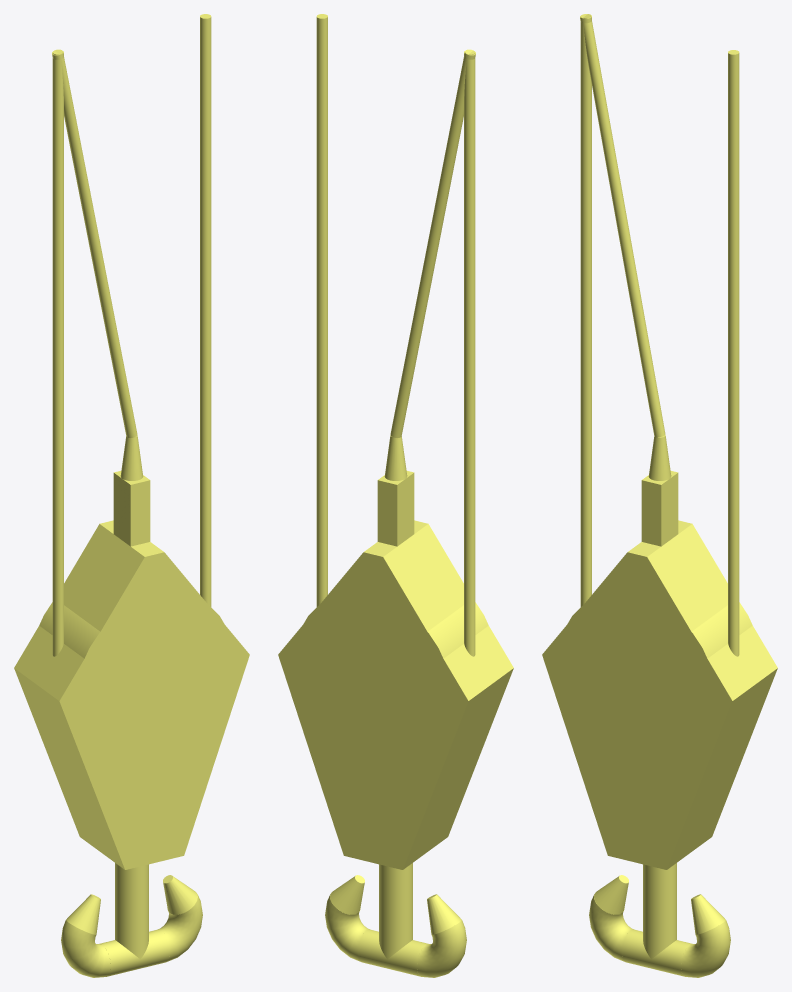
File: Image-1711348149269-2280988680880_73-MA50-CRANE-MAIN-BLOCK.fbx
3 views of the same model, side by side, from view 1: azimuth 30°, elevation 25°; view 2: azimuth 150°, elevation 25°; view 3: azimuth 330°, elevation 25° (orthographic).
Visible parts, largest first — view 1: CYLINDER 1 of STRUCTURE /73-MA50-CRANE-MAIN-BLOCK, PYRAMID 2 of STRUCTURE /73-MA50-CRANE-MAIN-BLOCK, PYRAMID 1 of STRUCTURE /73-MA50-CRANE-MAIN-BLOCK, CYLINDER 4 of STRUCTURE /73-MA50-CRANE-MAIN-BLOCK, CYLINDER 5 of STRUCTURE /73-MA50-CRANE-MAIN-BLOCK, CYLINDER 6 of STRUCTURE /73-MA50-CRANE-MAIN-BLOCK, CYLINDER 2 of STRUCTURE /73-MA50-CRANE-MAIN-BLOCK, BOX 1 of STRUCTURE /73-MA50-CRANE-MAIN-BLOCK, CTORUS 1 of STRUCTURE /73-MA50-CRANE-MAIN-BLOCK, CYLINDER 3 of STRUCTURE /73-MA50-CRANE-MAIN-BLOCK, CTORUS 2 of STRUCTURE /73-MA50-CRANE-MAIN-BLOCK, CONE 2 of STRUCTURE /73-MA50-CRANE-MAIN-BLOCK (+2 smaller); view 2: PYRAMID 2 of STRUCTURE /73-MA50-CRANE-MAIN-BLOCK, PYRAMID 1 of STRUCTURE /73-MA50-CRANE-MAIN-BLOCK, CYLINDER 1 of STRUCTURE /73-MA50-CRANE-MAIN-BLOCK, CYLINDER 4 of STRUCTURE /73-MA50-CRANE-MAIN-BLOCK, CYLINDER 5 of STRUCTURE /73-MA50-CRANE-MAIN-BLOCK, CYLINDER 6 of STRUCTURE /73-MA50-CRANE-MAIN-BLOCK, CYLINDER 2 of STRUCTURE /73-MA50-CRANE-MAIN-BLOCK, BOX 1 of STRUCTURE /73-MA50-CRANE-MAIN-BLOCK, CTORUS 1 of STRUCTURE /73-MA50-CRANE-MAIN-BLOCK, CYLINDER 3 of STRUCTURE /73-MA50-CRANE-MAIN-BLOCK, CTORUS 2 of STRUCTURE /73-MA50-CRANE-MAIN-BLOCK, CONE 2 of STRUCTURE /73-MA50-CRANE-MAIN-BLOCK (+2 smaller); view 3: PYRAMID 2 of STRUCTURE /73-MA50-CRANE-MAIN-BLOCK, PYRAMID 1 of STRUCTURE /73-MA50-CRANE-MAIN-BLOCK, CYLINDER 5 of STRUCTURE /73-MA50-CRANE-MAIN-BLOCK, CYLINDER 4 of STRUCTURE /73-MA50-CRANE-MAIN-BLOCK, CYLINDER 1 of STRUCTURE /73-MA50-CRANE-MAIN-BLOCK, CYLINDER 6 of STRUCTURE /73-MA50-CRANE-MAIN-BLOCK, CYLINDER 2 of STRUCTURE /73-MA50-CRANE-MAIN-BLOCK, BOX 1 of STRUCTURE /73-MA50-CRANE-MAIN-BLOCK, CTORUS 2 of STRUCTURE /73-MA50-CRANE-MAIN-BLOCK, CYLINDER 3 of STRUCTURE /73-MA50-CRANE-MAIN-BLOCK, CTORUS 1 of STRUCTURE /73-MA50-CRANE-MAIN-BLOCK, CONE 3 of STRUCTURE /73-MA50-CRANE-MAIN-BLOCK (+2 smaller).
Part boxes in pixels (x1,y1,x2,y2): CYLINDER 1 of STRUCTURE /73-MA50-CRANE-MAIN-BLOCK: [39, 593, 233, 762]; PYRAMID 2 of STRUCTURE /73-MA50-CRANE-MAIN-BLOCK: [14, 655, 249, 869]; PYRAMID 1 of STRUCTURE /73-MA50-CRANE-MAIN-BLOCK: [14, 520, 249, 700]; CYLINDER 4 of STRUCTURE /73-MA50-CRANE-MAIN-BLOCK: [52, 50, 63, 656]; CYLINDER 5 of STRUCTURE /73-MA50-CRANE-MAIN-BLOCK: [200, 14, 211, 606]; CYLINDER 6 of STRUCTURE /73-MA50-CRANE-MAIN-BLOCK: [52, 49, 137, 437]; CYLINDER 2 of STRUCTURE /73-MA50-CRANE-MAIN-BLOCK: [115, 863, 148, 959]; BOX 1 of STRUCTURE /73-MA50-CRANE-MAIN-BLOCK: [113, 471, 150, 546]; CTORUS 1 of STRUCTURE /73-MA50-CRANE-MAIN-BLOCK: [61, 920, 110, 977]; CYLINDER 3 of STRUCTURE /73-MA50-CRANE-MAIN-BLOCK: [99, 929, 169, 976]; CTORUS 2 of STRUCTURE /73-MA50-CRANE-MAIN-BLOCK: [158, 895, 202, 961]; CONE 2 of STRUCTURE /73-MA50-CRANE-MAIN-BLOCK: [163, 875, 197, 914]; PYRAMID 2 of STRUCTURE /73-MA50-CRANE-MAIN-BLOCK: [278, 655, 513, 869]; PYRAMID 1 of STRUCTURE /73-MA50-CRANE-MAIN-BLOCK: [278, 520, 513, 700]; CYLINDER 1 of STRUCTURE /73-MA50-CRANE-MAIN-BLOCK: [294, 593, 488, 757]; CYLINDER 4 of STRUCTURE /73-MA50-CRANE-MAIN-BLOCK: [464, 50, 475, 656]; CYLINDER 5 of STRUCTURE /73-MA50-CRANE-MAIN-BLOCK: [316, 14, 327, 606]; CYLINDER 6 of STRUCTURE /73-MA50-CRANE-MAIN-BLOCK: [390, 49, 475, 437]; CYLINDER 2 of STRUCTURE /73-MA50-CRANE-MAIN-BLOCK: [379, 863, 412, 959]; BOX 1 of STRUCTURE /73-MA50-CRANE-MAIN-BLOCK: [377, 471, 414, 546]; CTORUS 1 of STRUCTURE /73-MA50-CRANE-MAIN-BLOCK: [417, 920, 466, 977]; CYLINDER 3 of STRUCTURE /73-MA50-CRANE-MAIN-BLOCK: [358, 929, 428, 976]; CTORUS 2 of STRUCTURE /73-MA50-CRANE-MAIN-BLOCK: [325, 895, 369, 961]; CONE 2 of STRUCTURE /73-MA50-CRANE-MAIN-BLOCK: [330, 875, 364, 914]; PYRAMID 2 of STRUCTURE /73-MA50-CRANE-MAIN-BLOCK: [542, 655, 777, 869]; PYRAMID 1 of STRUCTURE /73-MA50-CRANE-MAIN-BLOCK: [542, 520, 777, 700]; CYLINDER 5 of STRUCTURE /73-MA50-CRANE-MAIN-BLOCK: [728, 50, 739, 656]; CYLINDER 4 of STRUCTURE /73-MA50-CRANE-MAIN-BLOCK: [580, 14, 591, 606]; CYLINDER 1 of STRUCTURE /73-MA50-CRANE-MAIN-BLOCK: [559, 593, 752, 760]; CYLINDER 6 of STRUCTURE /73-MA50-CRANE-MAIN-BLOCK: [580, 14, 665, 437]; CYLINDER 2 of STRUCTURE /73-MA50-CRANE-MAIN-BLOCK: [643, 863, 676, 959]; BOX 1 of STRUCTURE /73-MA50-CRANE-MAIN-BLOCK: [641, 471, 678, 546]; CTORUS 2 of STRUCTURE /73-MA50-CRANE-MAIN-BLOCK: [681, 920, 730, 977]; CYLINDER 3 of STRUCTURE /73-MA50-CRANE-MAIN-BLOCK: [622, 929, 692, 976]; CTORUS 1 of STRUCTURE /73-MA50-CRANE-MAIN-BLOCK: [589, 895, 633, 961]; CONE 3 of STRUCTURE /73-MA50-CRANE-MAIN-BLOCK: [594, 875, 628, 914].
Bounding box in the file's own units: 0.97 × 0.4 × 4.55.
